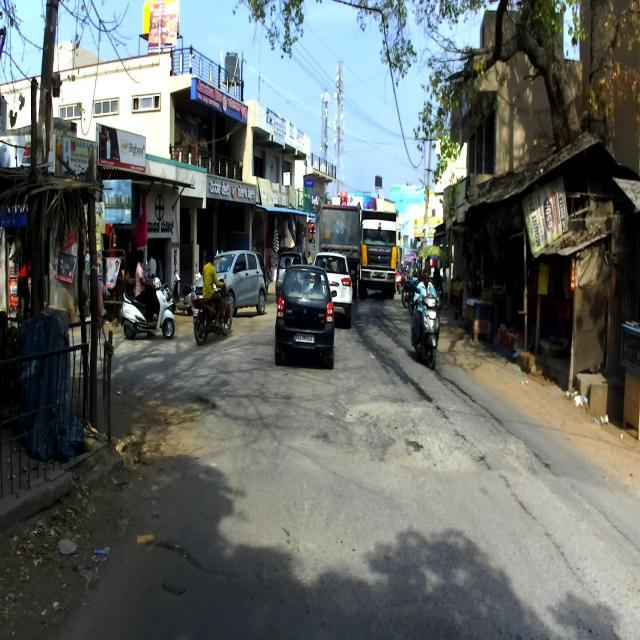pothole: (328, 382, 470, 495), (477, 394, 561, 540), (137, 530, 214, 632), (162, 374, 222, 473)
